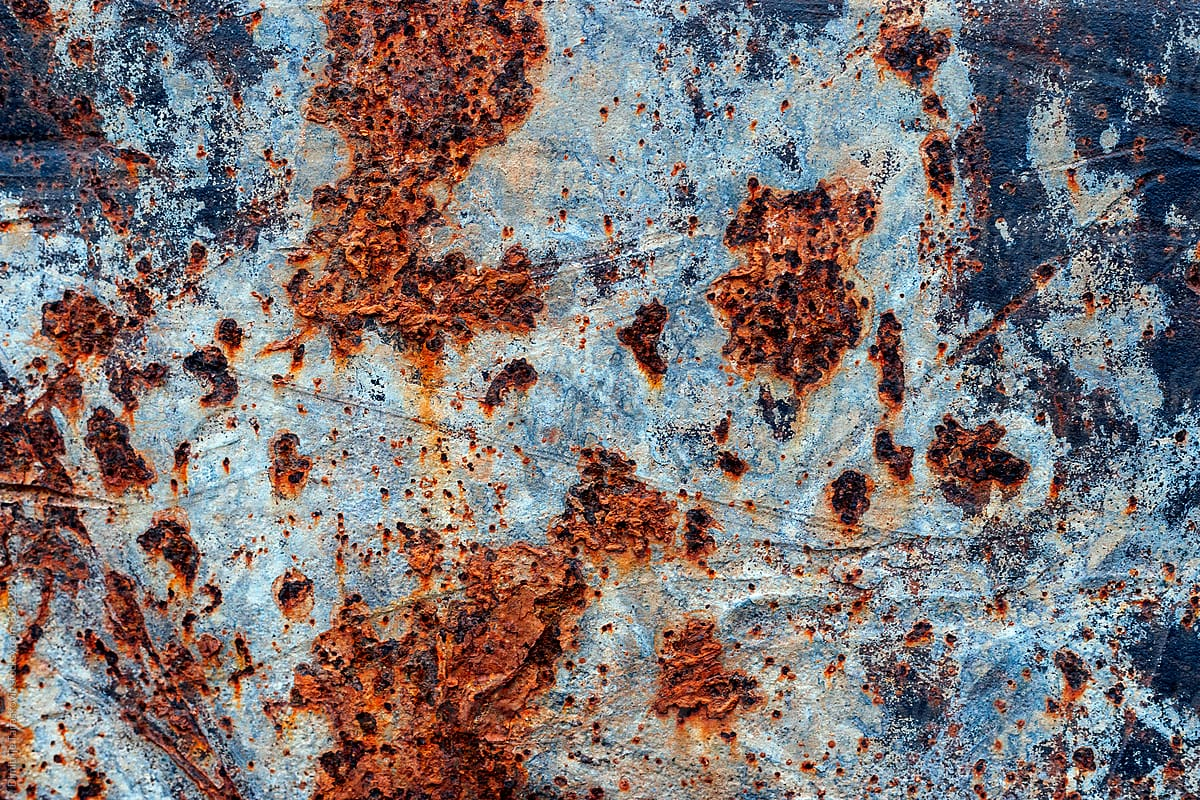rust: (1, 13, 1198, 796), (13, 267, 307, 670), (313, 457, 653, 800), (311, 4, 537, 369), (726, 178, 866, 424), (3, 691, 300, 783), (659, 617, 770, 728), (916, 415, 1027, 511), (820, 469, 868, 543), (292, 791, 294, 795)
